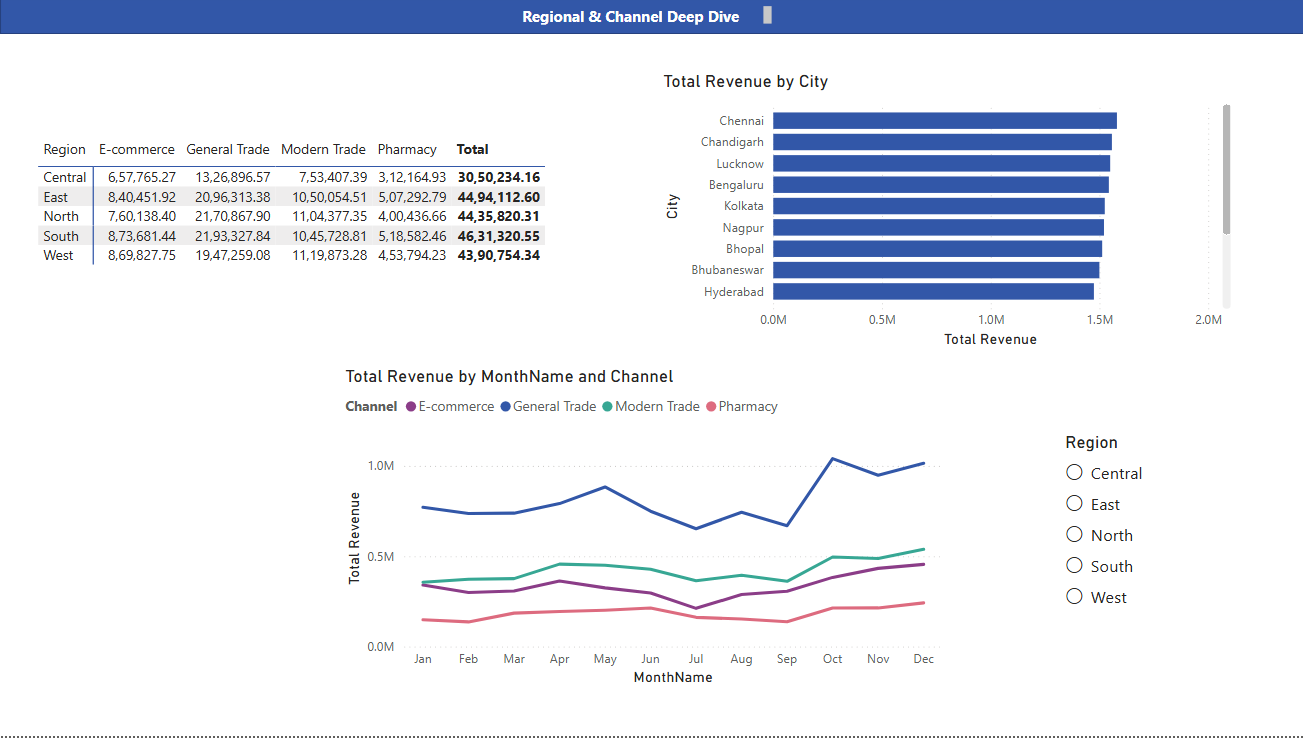

The dashboard page shown, as its layout file describes it:
{"tool":"powerbi","page":{"name":"Regional & Channel","canvas":[1280,720],"ordinal":2},"visuals":[{"type":"pivotTable","fields":{"Rows":["Sales_Transactions.Region"],"Columns":["Sales_Transactions.Channel"],"Values":["_Measures.Total Revenue"]},"box":[32.1,133.3,507.7,153.7],"z":0},{"type":"clusteredBarChart","fields":{"Y":["_Measures.Total Revenue"],"Category":["Sales_Transactions.City"]},"box":[640,72.9,562.2,273.3],"z":1},{"type":"lineChart","fields":{"Category":["DateTable.MonthName"],"Y":["_Measures.Total Revenue"],"Series":["Sales_Transactions.Channel"]},"box":[330.7,359.9,590.4,316.1],"z":2},{"type":"listSlicer","fields":{"Values":["Sales_Transactions.Region"]},"box":[1031,424.1,145.9,188.7],"z":3},{"type":"shape","box":[0,0,1280,37],"z":4},{"type":"textbox","box":[479.5,4.9,276.2,28.2],"z":5}]}

Visuals, with their boxes on the page's 1280x720 design canvas (x1, y1, x2, y2). These are canvas units, not pixel positions in the 1303x756 screenshot, which may show the page scaled, cropped or inside an application window:
pivotTable - Sales_Transactions.Region x Sales_Transactions.Channel: 32:133:540:287
clusteredBarChart - _Measures.Total Revenue x Sales_Transactions.City: 640:73:1202:346
lineChart - DateTable.MonthName x _Measures.Total Revenue: 331:360:921:676
listSlicer - Sales_Transactions.Region: 1031:424:1177:613
shape: 0:0:1280:37
textbox: 480:5:756:33
